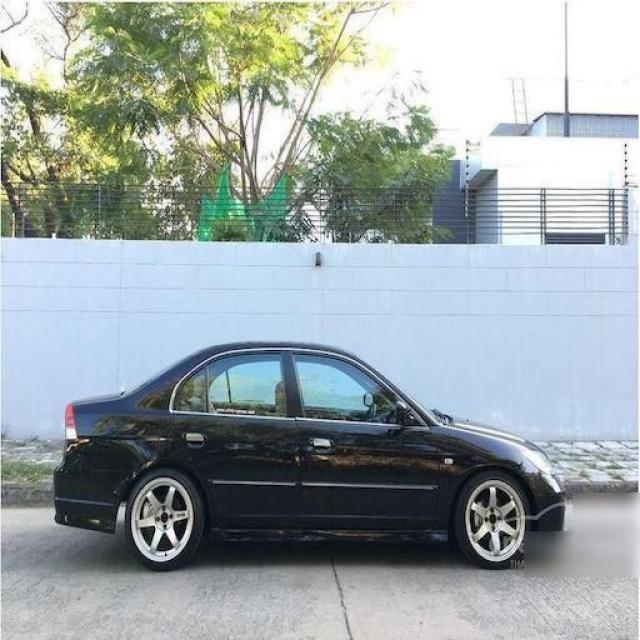back_right_door: (170, 347, 299, 518)
front_right_door: (286, 346, 442, 521)
front_right_light: (522, 451, 551, 477)
right_mirror: (396, 400, 412, 425)
wheel: (124, 468, 531, 570)
